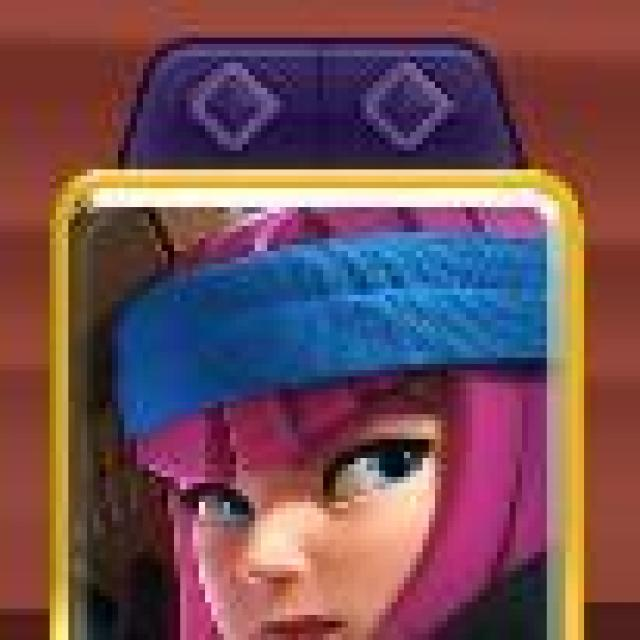Firecracker: (51, 168, 585, 640)
